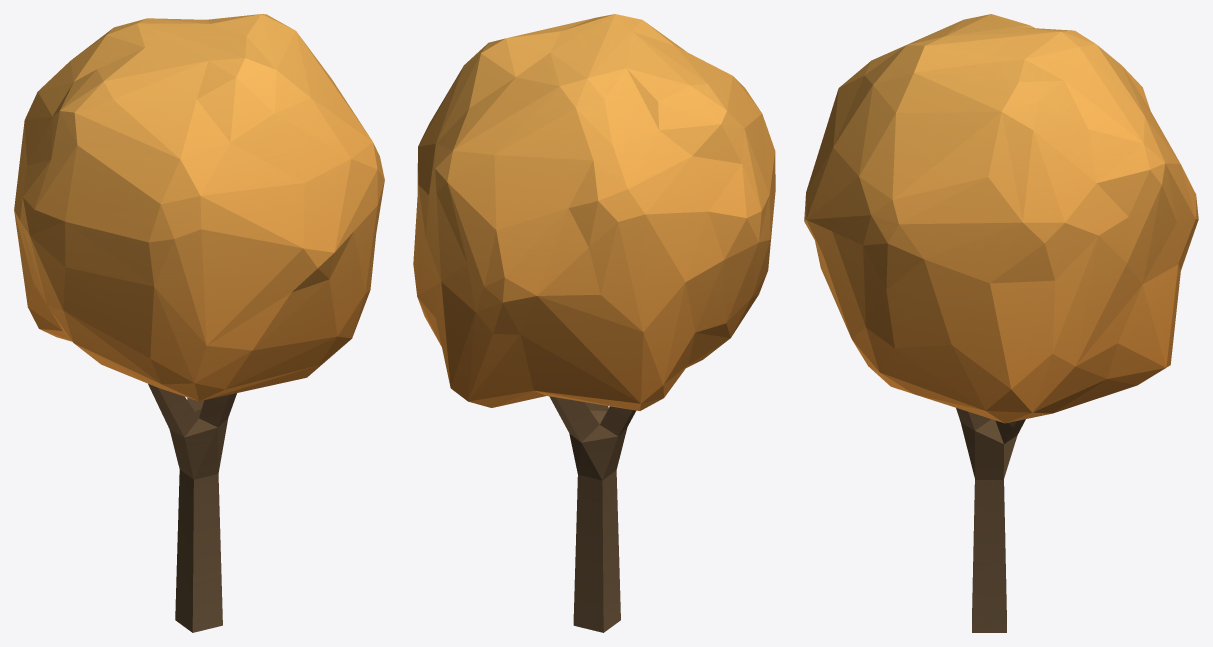
The model's file is medium-tree-4.glb.
The picture shows the model from 3 angles, left to right: view 1: azimuth 30°, elevation 25°; view 2: azimuth 150°, elevation 25°; view 3: azimuth 270°, elevation 25°; orthographic projection.
Parts seen in each view (by area): view 1: medium-tree-4; view 2: medium-tree-4; view 3: medium-tree-4.
Boxes of the visible parts, bbox=[...] form: medium-tree-4: bbox=[14, 14, 384, 632]; medium-tree-4: bbox=[413, 14, 775, 632]; medium-tree-4: bbox=[804, 14, 1198, 632].
Size of the model in its own units: 0.1757 by 0.2982 by 0.1818.
1 material, 1 textured.
